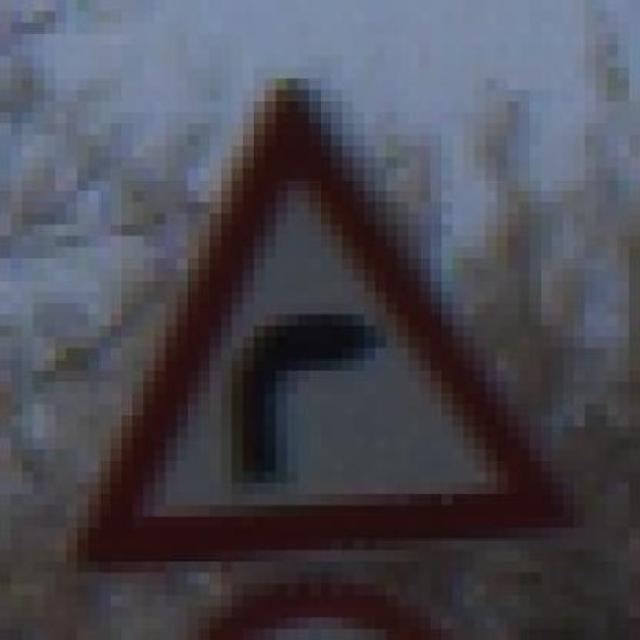Dangerous Rright Curve Ahead: (77, 79, 574, 550)
